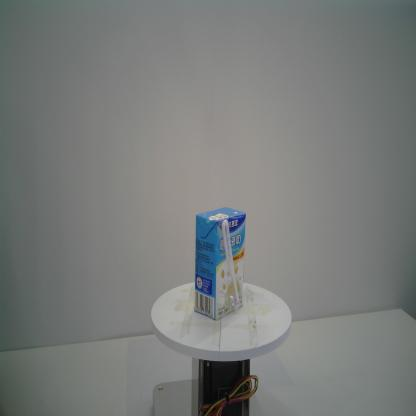Milk: (193, 204, 247, 321)
